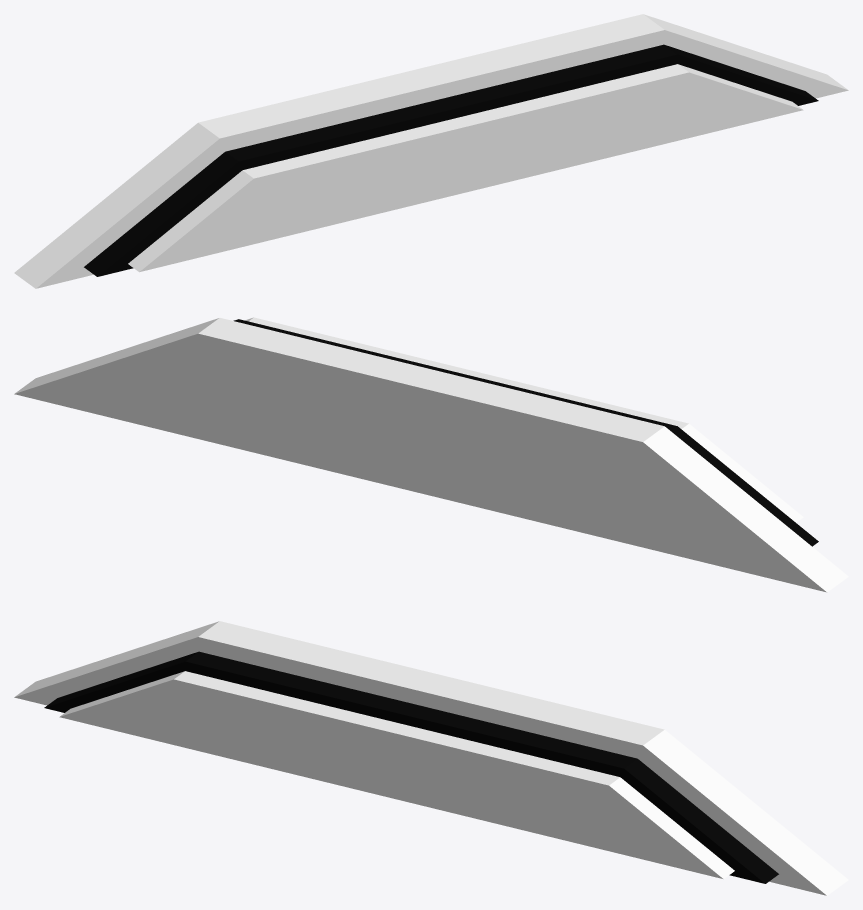
The model's file is gauge.obj.
3 views of the same model, one above another, from view 1: azimuth 30°, elevation 25°; view 2: azimuth 150°, elevation 25°; view 3: azimuth 330°, elevation 25° (orthographic).
Parts seen in each view (by area): view 1: 立方体.003_立方体.007; view 2: 立方体.003_立方体.007; view 3: 立方体.003_立方体.007.
Boxes of the visible parts, box(x1,y1,x2,y2) form: 立方体.003_立方体.007: box(14, 14, 848, 288); 立方体.003_立方体.007: box(14, 317, 848, 592); 立方体.003_立方体.007: box(14, 621, 848, 895).
Size of the model in its own units: 5.56 by 0.6892 by 0.6034.
Materials: 1 (1 with a texture image).
